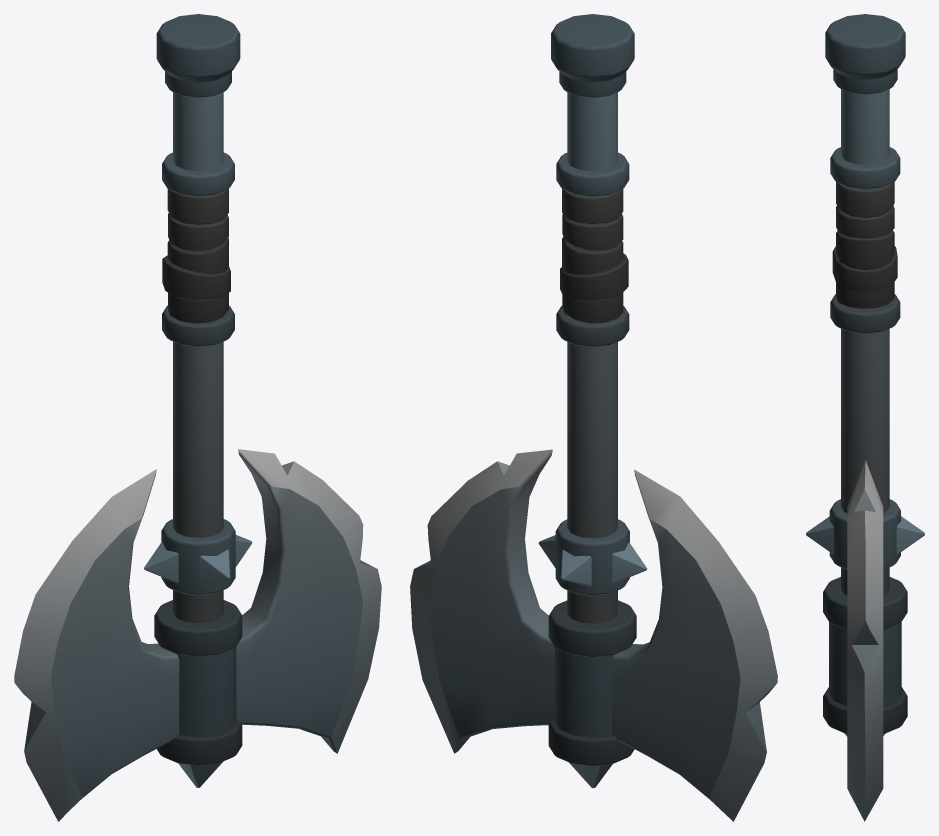
File: inferno-axe-001.glb
3 views of the same model, side by side, from view 1: azimuth 30°, elevation 25°; view 2: azimuth 150°, elevation 25°; view 3: azimuth 270°, elevation 25° (orthographic). The views are drawn at different scales.
Parts seen in each view (by area): view 1: Axe_001; view 2: Axe_001; view 3: Axe_001.
Part boxes in pixels (left/top/right/bottom): Axe_001: left=14, top=14, right=381, bottom=821; Axe_001: left=410, top=14, right=777, bottom=821; Axe_001: left=806, top=14, right=924, bottom=821.
Size of the model in its own units: 10.96 by 21.57 by 3.2.
Materials: 1 (1 with a texture image).
